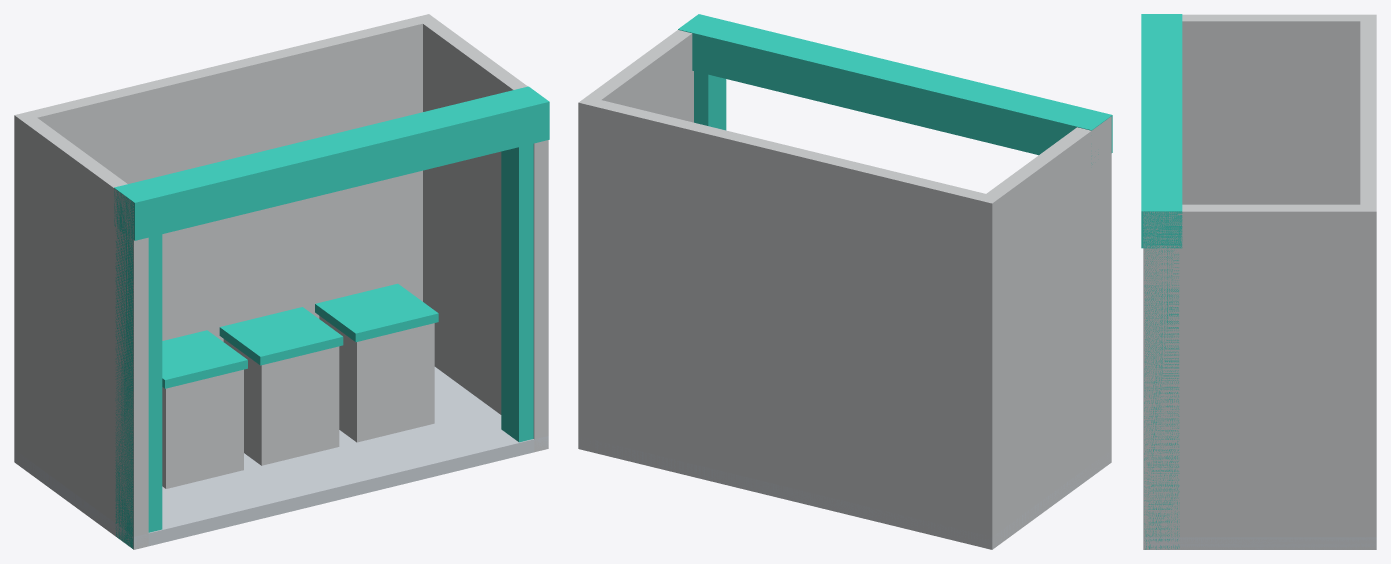
The picture shows the model from 3 angles, left to right: view 1: azimuth 30°, elevation 25°; view 2: azimuth 150°, elevation 25°; view 3: azimuth 270°, elevation 25°; orthographic projection. The views are drawn at different scales.
Visible parts, largest first — view 1: Exhibition Booth Concept; view 2: Exhibition Booth Concept; view 3: Exhibition Booth Concept.
Boxes of the visible parts, bbox=[...] form: Exhibition Booth Concept: bbox=[14, 14, 549, 549]; Exhibition Booth Concept: bbox=[578, 14, 1112, 549]; Exhibition Booth Concept: bbox=[1141, 14, 1376, 549].
Bounding box in the file's own units: 4 × 3.2 × 2.01.
